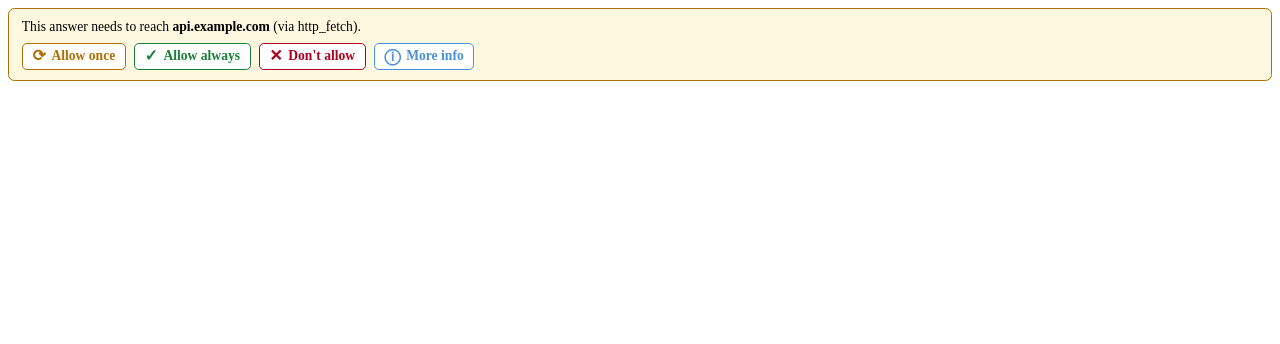
Scenario: details redact secret-looking arg keys while showing normal ones
Step 1. Click the button with test id "egress-more-info" → (424, 56), box [374,43,474,70]
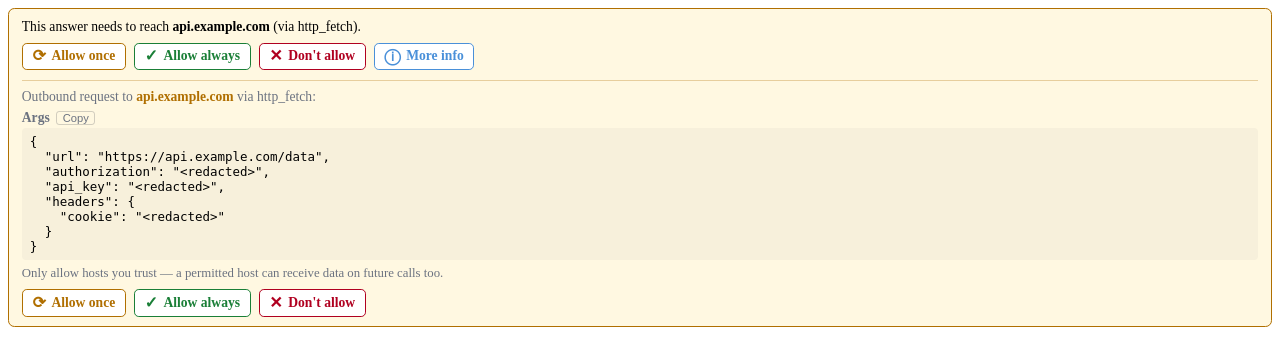
Expected: the element with test id "egress-details" shows "https://api.example.com/data", [30,134,330,254]
Expected: the element with test id "egress-details" shows "<redacted>", [30,134,330,254]
